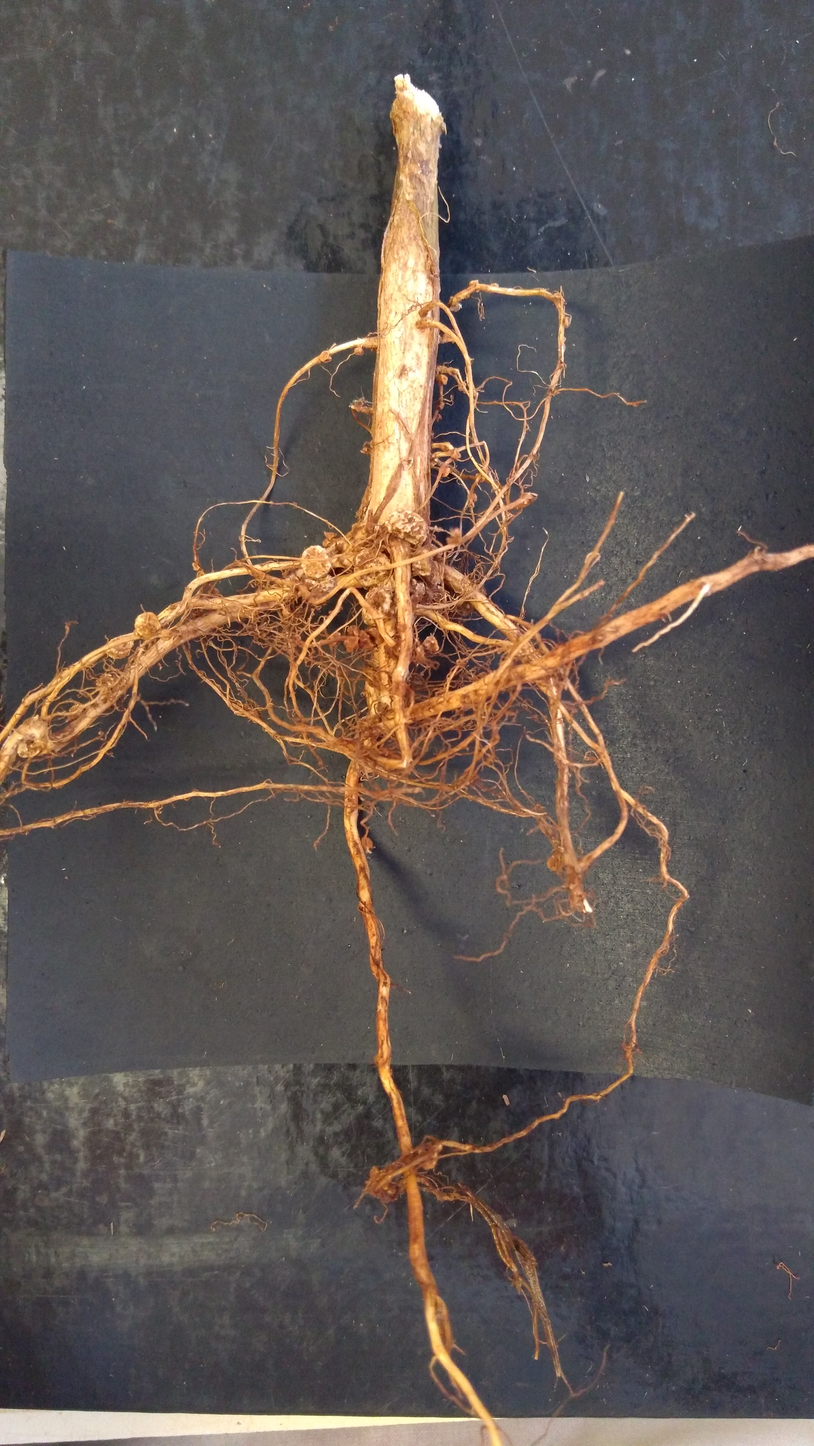nodule: (349, 547, 393, 592), (382, 508, 430, 548), (358, 588, 394, 626), (132, 607, 167, 643), (299, 543, 332, 581), (366, 1163, 397, 1197), (301, 573, 339, 599), (16, 735, 50, 764), (16, 718, 49, 742), (410, 547, 433, 581), (417, 1142, 444, 1170), (107, 636, 132, 666), (356, 832, 379, 855), (426, 559, 444, 586), (341, 634, 365, 654), (421, 633, 441, 654), (358, 629, 374, 651), (367, 626, 384, 646), (409, 578, 425, 597), (466, 490, 479, 510), (318, 349, 334, 365), (320, 530, 336, 546), (351, 346, 367, 358), (439, 372, 450, 386), (440, 467, 452, 478), (474, 472, 486, 483), (468, 278, 481, 287), (490, 282, 501, 289), (362, 446, 370, 452)
